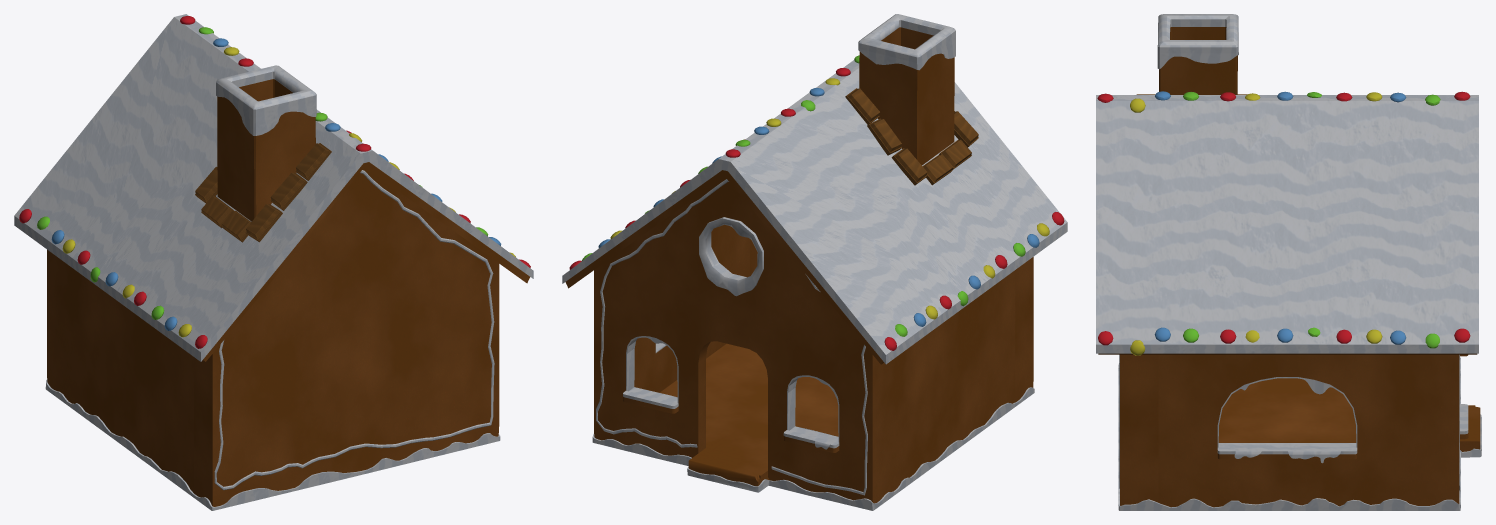
The model's file is GingerBreadHouse.glb.
3 views of the same model, side by side, from view 1: azimuth 30°, elevation 25°; view 2: azimuth 150°, elevation 25°; view 3: azimuth 270°, elevation 25° (orthographic). The views are drawn at different scales.
Parts seen in each view (by area): view 1: House; view 2: House; view 3: House.
Boxes of the visible parts, x1,y1,x2,y2 form: House: (14,14,533,510); House: (562,14,1067,510); House: (1096,14,1481,510).
Size of what is drawn, in the model's own units: 7.92 by 8.41 by 7.64.
Materials: 7 (3 with a texture image).
